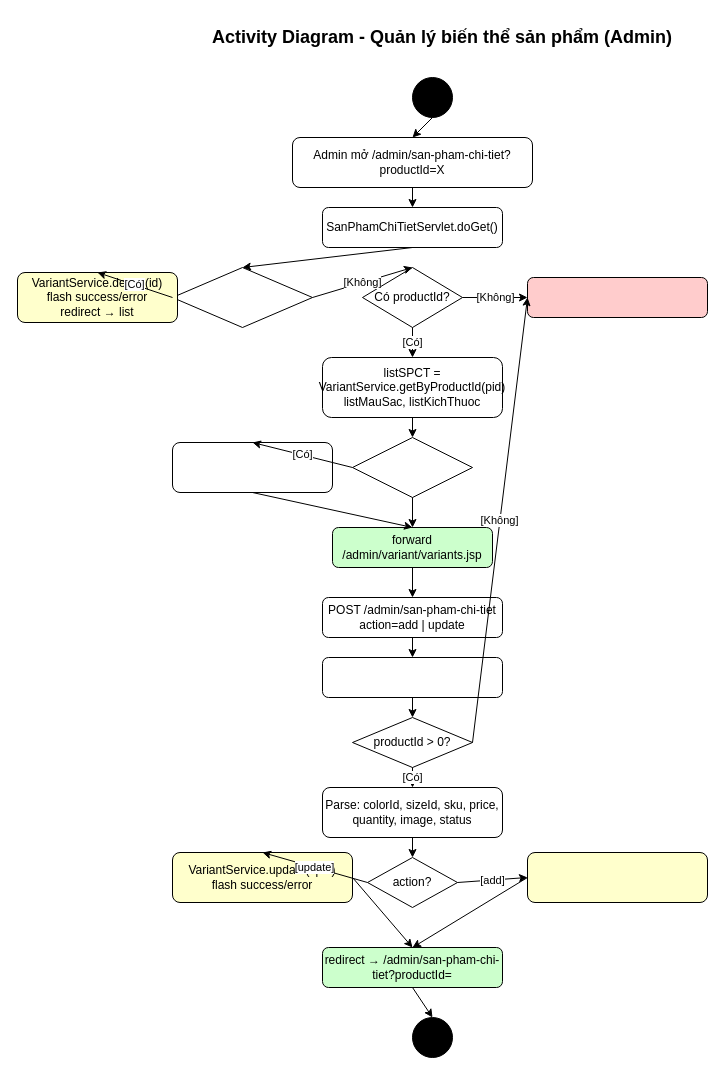
This 725x1075 diagram has some shape labels left out. Here are the shapes that lost their labels. From the top down, the box of each, then its label:
(172, 266, 312, 328): action==delete && có id?
(526, 276, 708, 318): redirect → /admin/products
(172, 442, 332, 492): Set editingSPCT + openEditModal
(352, 436, 472, 498): action==edit && có id?
(322, 656, 502, 698): SanPhamChiTietServlet.doPost()
(526, 852, 708, 902): VariantService.create(spct) flash success/error
